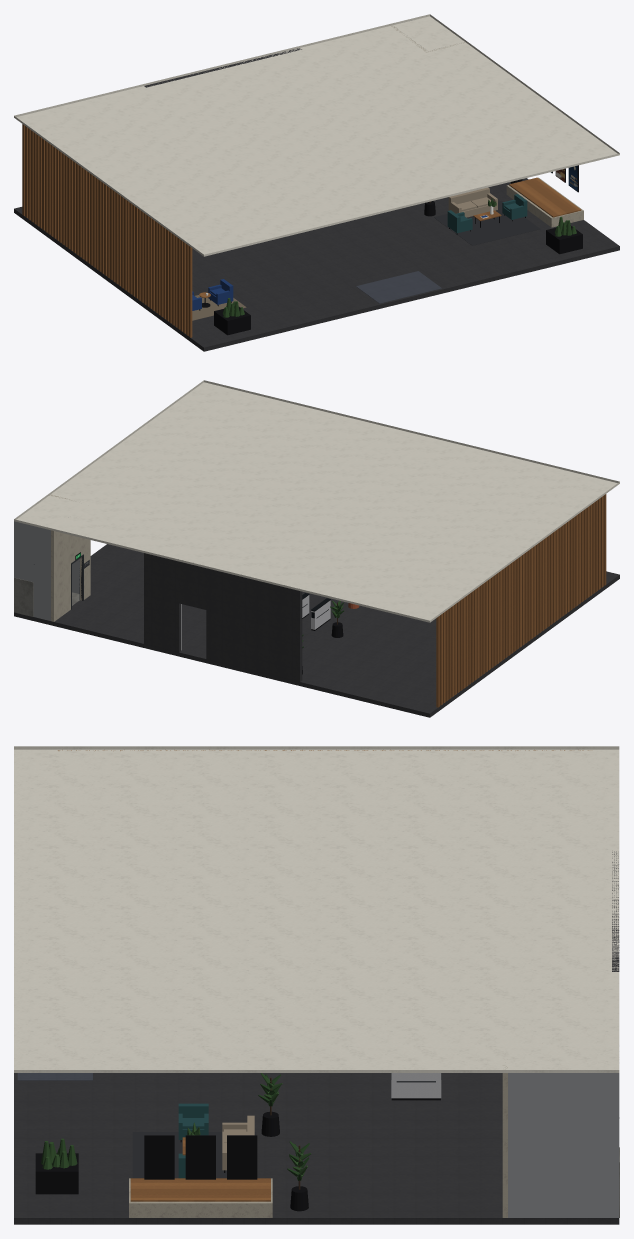
Rendered from harbor_lobby_baked.glb.
The picture shows the model from 3 angles, top to bottom: view 1: azimuth 30°, elevation 25°; view 2: azimuth 150°, elevation 25°; view 3: azimuth 270°, elevation 25°; orthographic projection. The views are drawn at different scales.
Visible parts, largest first — view 1: Lobby_Interior_ShaftCut_Baked, Lobby_Seating_Baked; view 2: Lobby_Interior_ShaftCut_Baked, Stair_Core_Baked, SpeedGate_Bank_Baked; view 3: Lobby_Interior_ShaftCut_Baked, Stair_Core_Baked, Lobby_Art_Baked, Lobby_Seating_Baked, Lobby_Plants_Baked, SpeedGate_Bank_Baked.
Part boxes in pixels (x1,y1,x2,y2): Lobby_Interior_ShaftCut_Baked: (14, 14, 619, 351); Lobby_Seating_Baked: (192, 187, 540, 320); Lobby_Interior_ShaftCut_Baked: (14, 380, 619, 717); Stair_Core_Baked: (14, 494, 90, 621); SpeedGate_Bank_Baked: (302, 593, 330, 630); Lobby_Interior_ShaftCut_Baked: (14, 746, 619, 1224); Stair_Core_Baked: (502, 1065, 619, 1217); Lobby_Art_Baked: (144, 1135, 257, 1179); Lobby_Seating_Baked: (132, 1103, 256, 1178); Lobby_Plants_Baked: (258, 1073, 311, 1211); SpeedGate_Bank_Baked: (391, 1073, 441, 1100).
Size of the model in its own units: 21.3 by 4.75 by 16.87.
44 materials, 17 textured.
